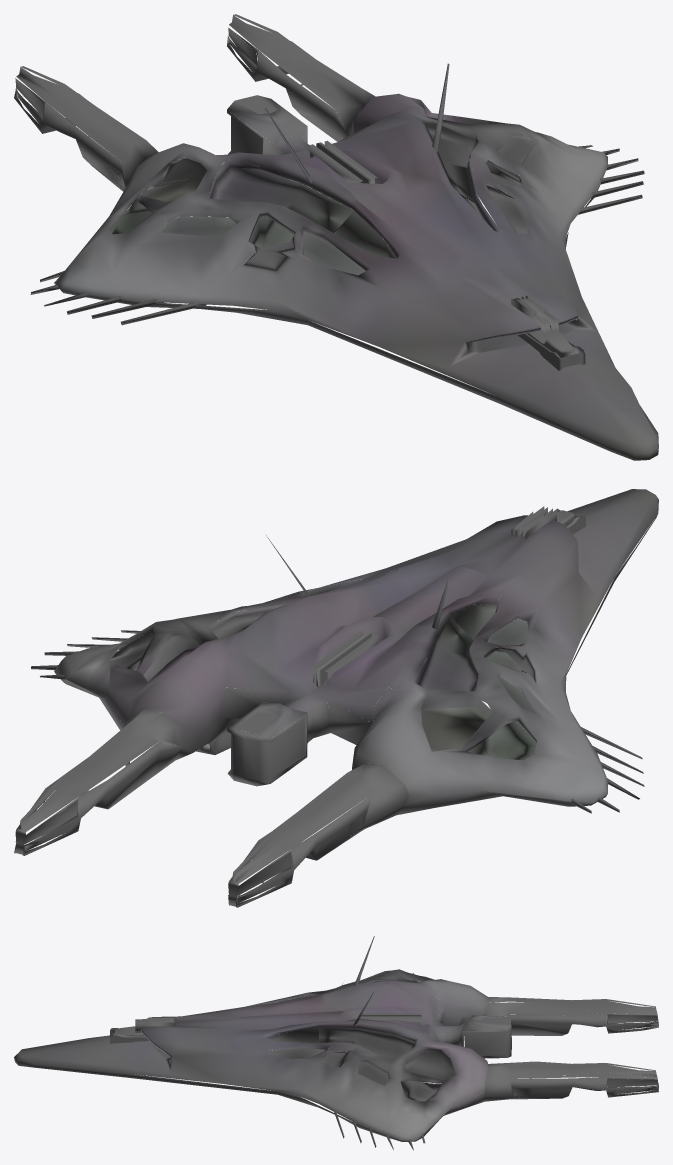
The picture shows the model from 3 angles, top to bottom: view 1: azimuth 30°, elevation 25°; view 2: azimuth 150°, elevation 25°; view 3: azimuth 270°, elevation 25°; orthographic projection. The views are drawn at different scales.
Parts seen in each view (by area): view 1: Object_2; view 2: Object_2; view 3: Object_2.
Part boxes in pixels (<box>): Object_2: <box>14,14,658,460</box>; Object_2: <box>14,489,658,907</box>; Object_2: <box>14,936,658,1150</box>.
Size of the model in its own units: 112 by 33.13 by 171.
Materials: 1 (1 with a texture image).
